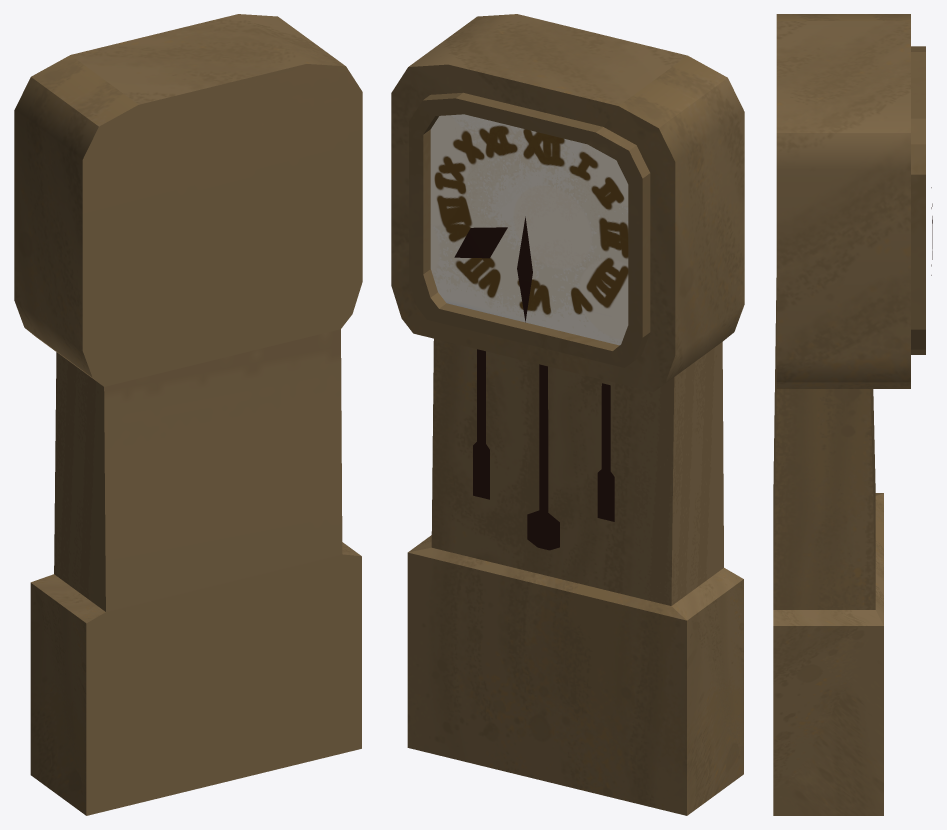
The model's file is SM_museumClock.fbx.
3 views of the same model, side by side, from view 1: azimuth 30°, elevation 25°; view 2: azimuth 150°, elevation 25°; view 3: azimuth 270°, elevation 25° (orthographic). The views are drawn at different scales.
Parts seen in each view (by area): view 1: clock; view 2: clock; view 3: clock.
Part boxes in pixels (<box>): clock: <box>14,14,362,815</box>; clock: <box>391,14,744,815</box>; clock: <box>773,14,932,815</box>.
Bounding box in the file's own units: 18.36 × 43.68 × 9.17.
1 material, 1 textured.
